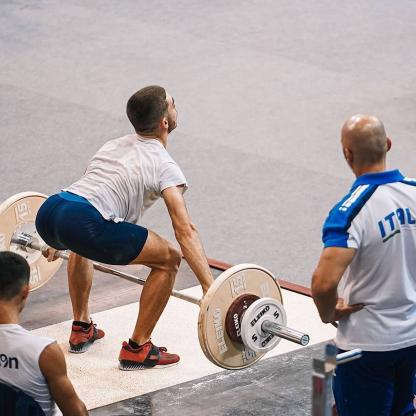barbell: (204, 266, 285, 372)
